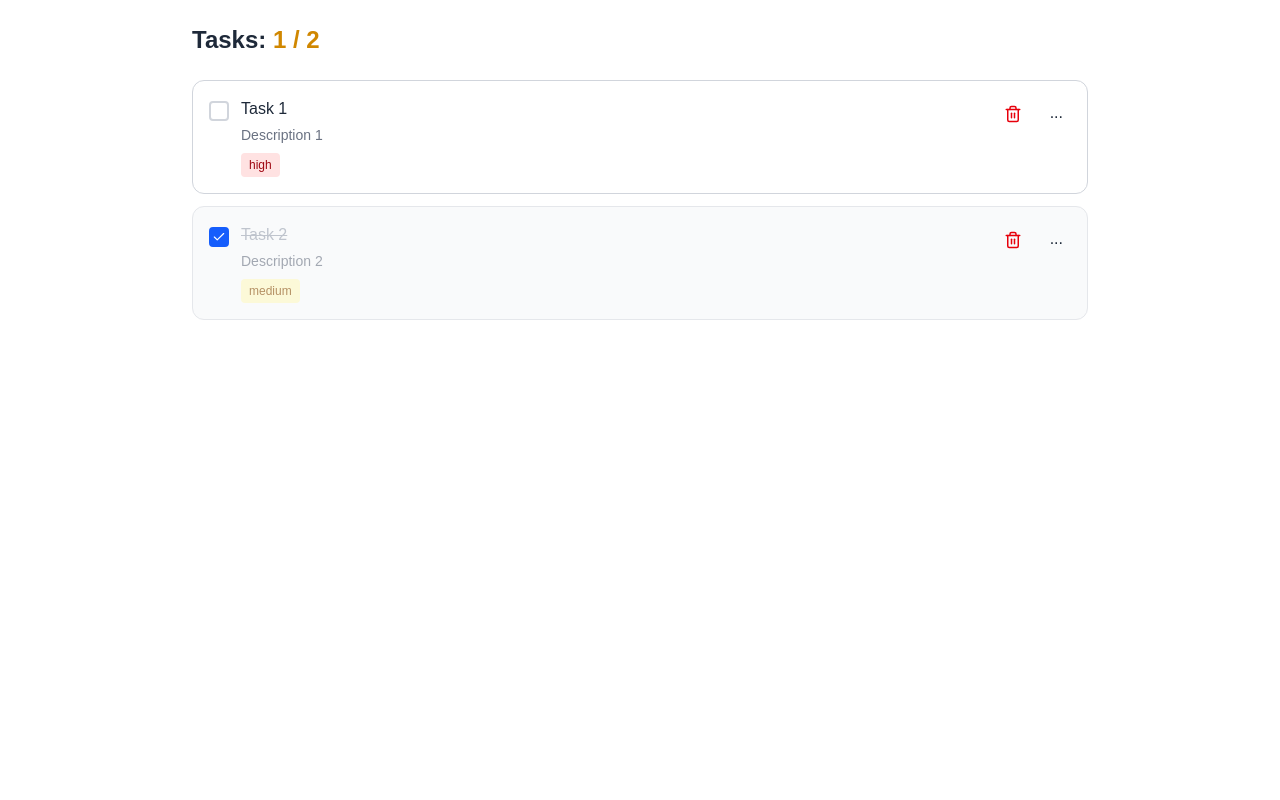
Test: TasksSection › Task Update › should update task successfully
The image size is (1280, 800).
Expected: the heading "Task 1" is shown, top-left (241, 100), bottom-right (287, 117)
Click the button named "Edit task".
click(1056, 113)  # box top-left (1042, 97), bottom-right (1071, 129)
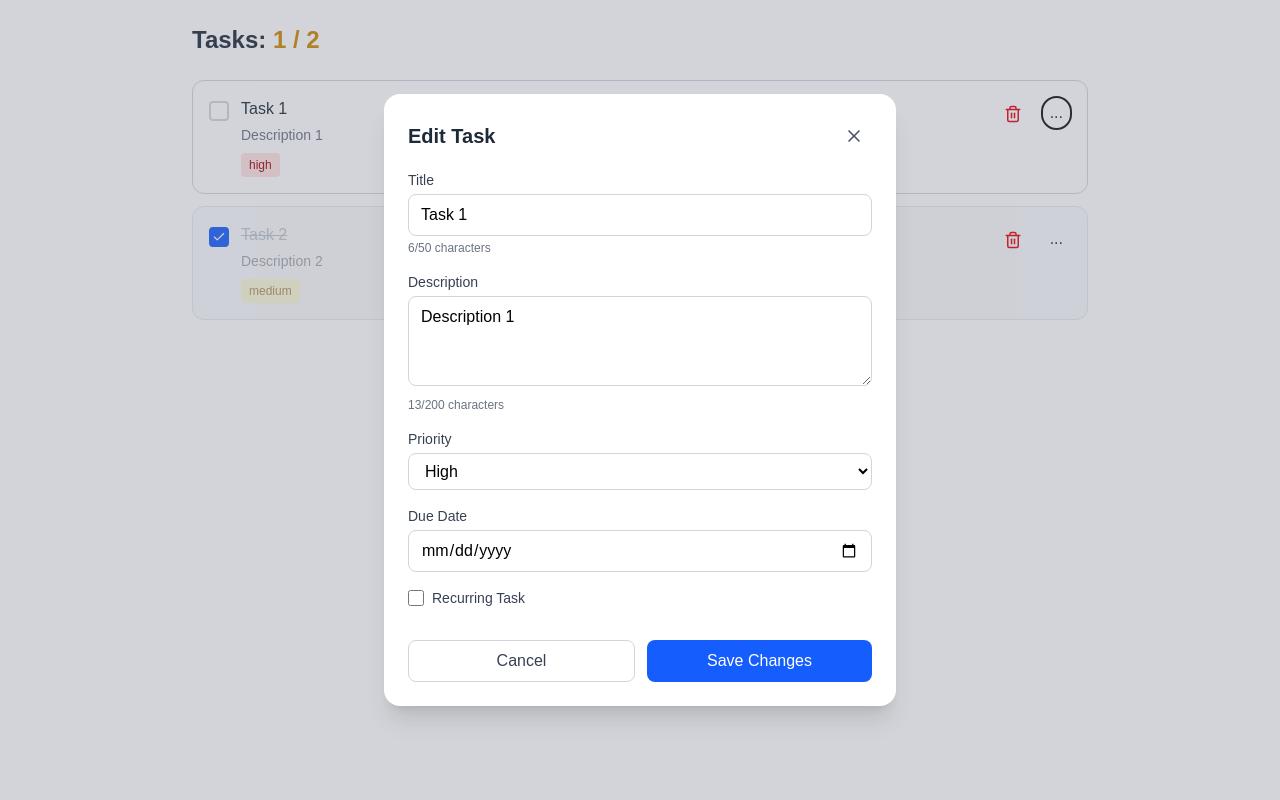
Now the heading "Edit Task" is shown, box top-left (408, 122), bottom-right (495, 150)
Replace the text in the field labelled "Title" with "Updated Task" at (640, 215), box top-left (408, 194), bottom-right (872, 236)
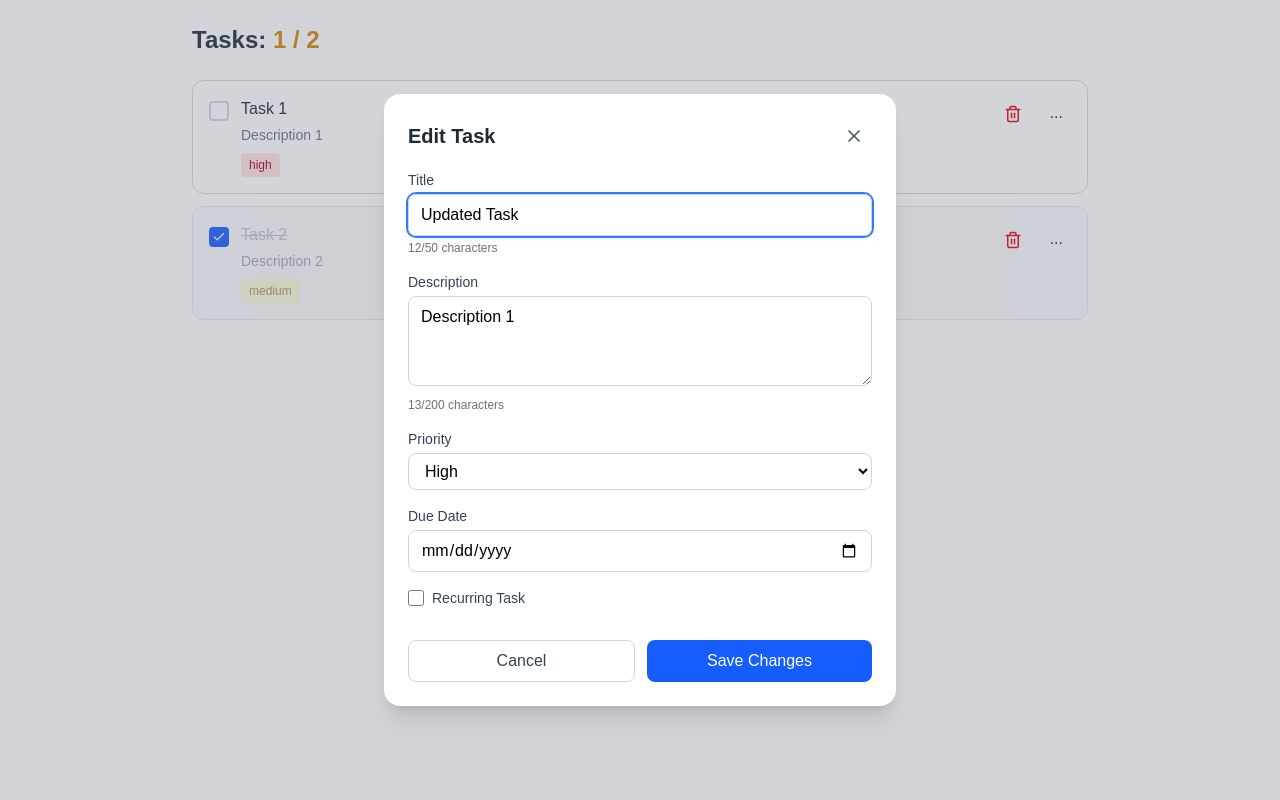
Click the button "Save Changes".
click(760, 661)  # box top-left (647, 640), bottom-right (872, 682)
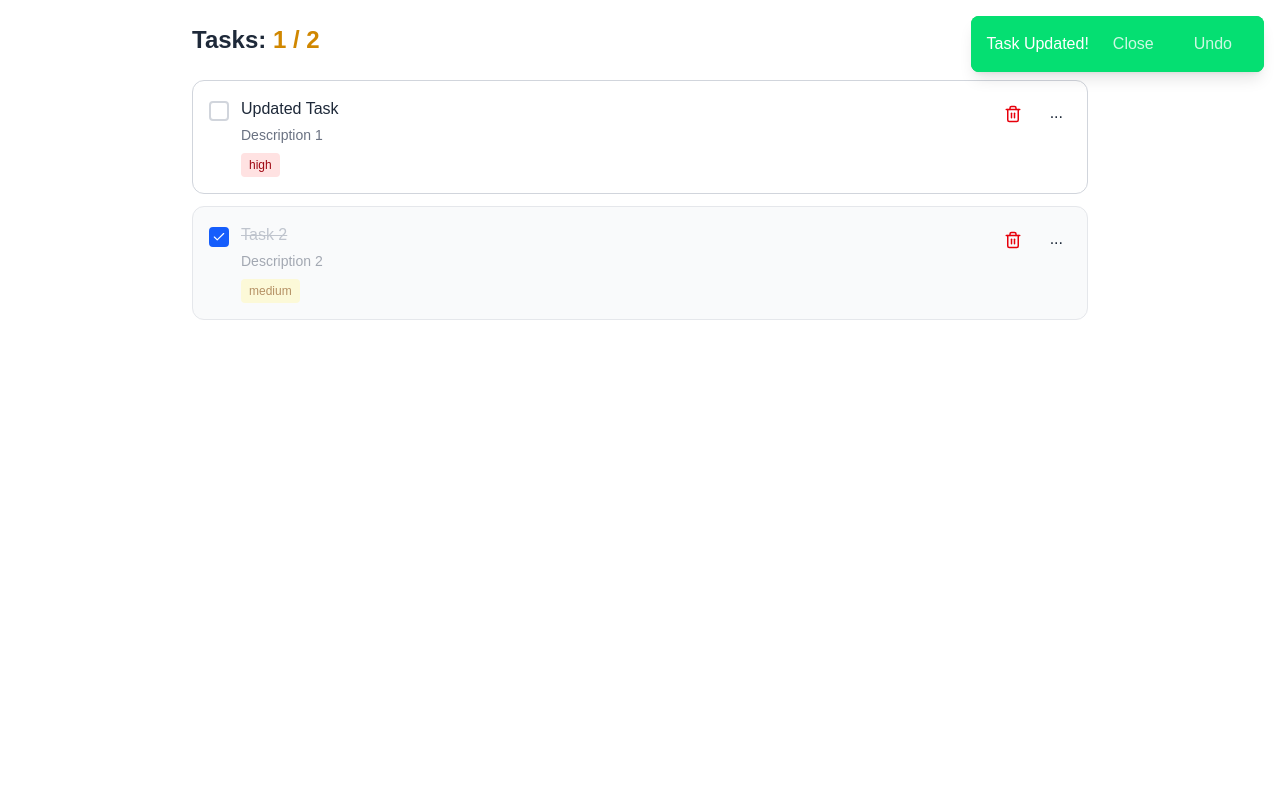
Now the text "Task Updated!" is shown, box top-left (987, 35), bottom-right (1089, 52)
